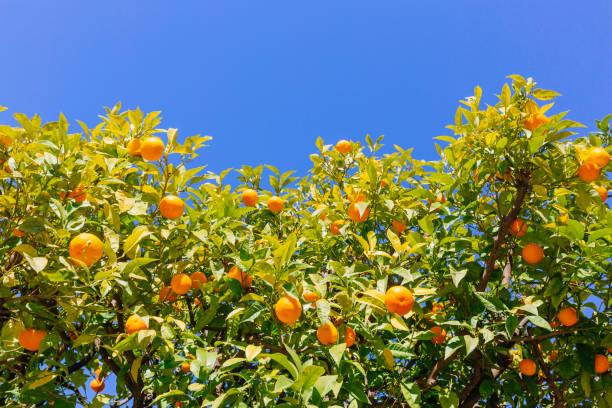orange: (271, 299, 312, 333), (236, 185, 276, 217), (576, 147, 609, 183), (516, 106, 553, 136), (389, 280, 420, 314), (72, 233, 108, 261), (163, 269, 193, 301), (519, 237, 552, 264), (141, 130, 168, 162), (159, 193, 188, 222), (318, 320, 345, 344), (20, 331, 46, 355), (509, 205, 532, 230), (348, 191, 369, 218), (582, 355, 606, 377), (517, 361, 541, 381), (563, 298, 581, 323)
